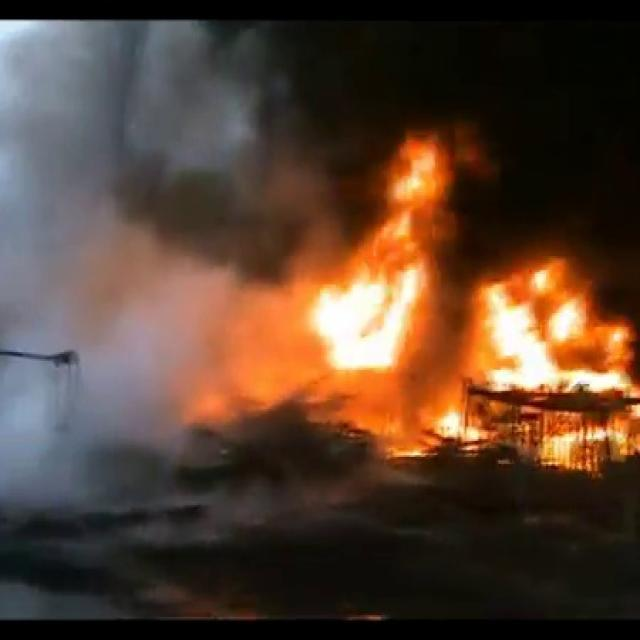Fire: (281, 125, 640, 470)
Smoke: (0, 21, 334, 463)
